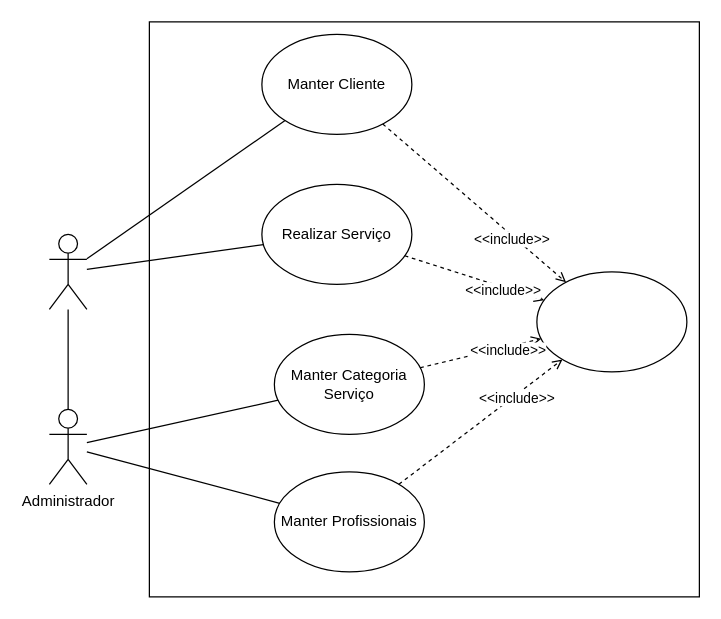
The diagram is 721 pixels wide and 619 high, and some of its shapes have lost their labels. Here are the shapes that lost their labels. From the top down, the centre of each, then its label:
At pixel 67 271: "Profissional".
At pixel 611 321: "Autenticar Profissional".
